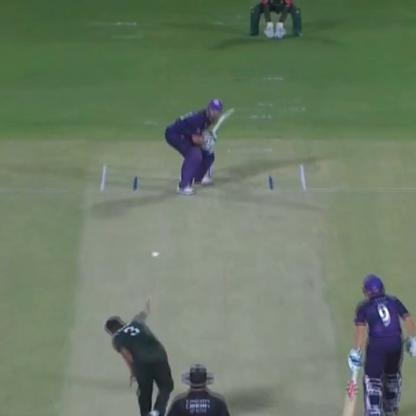ball: (146, 247, 164, 262)
pitch: (58, 160, 343, 416)
